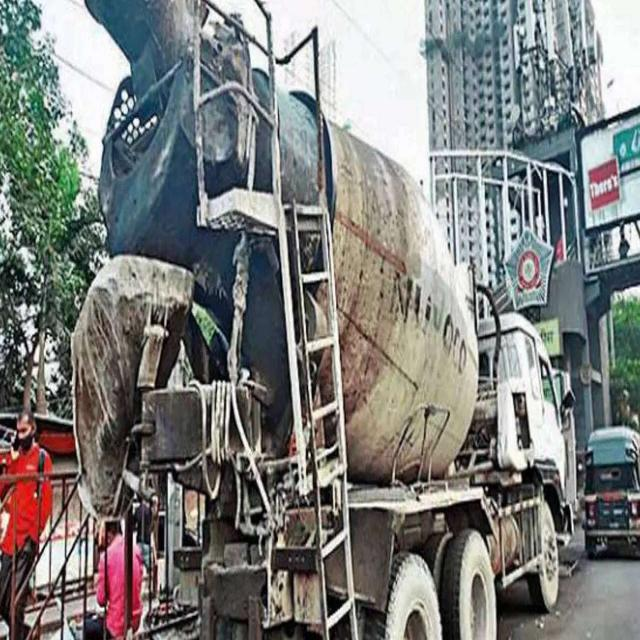autorickshaw: (584, 427, 640, 558)
truck: (72, 0, 576, 638)
